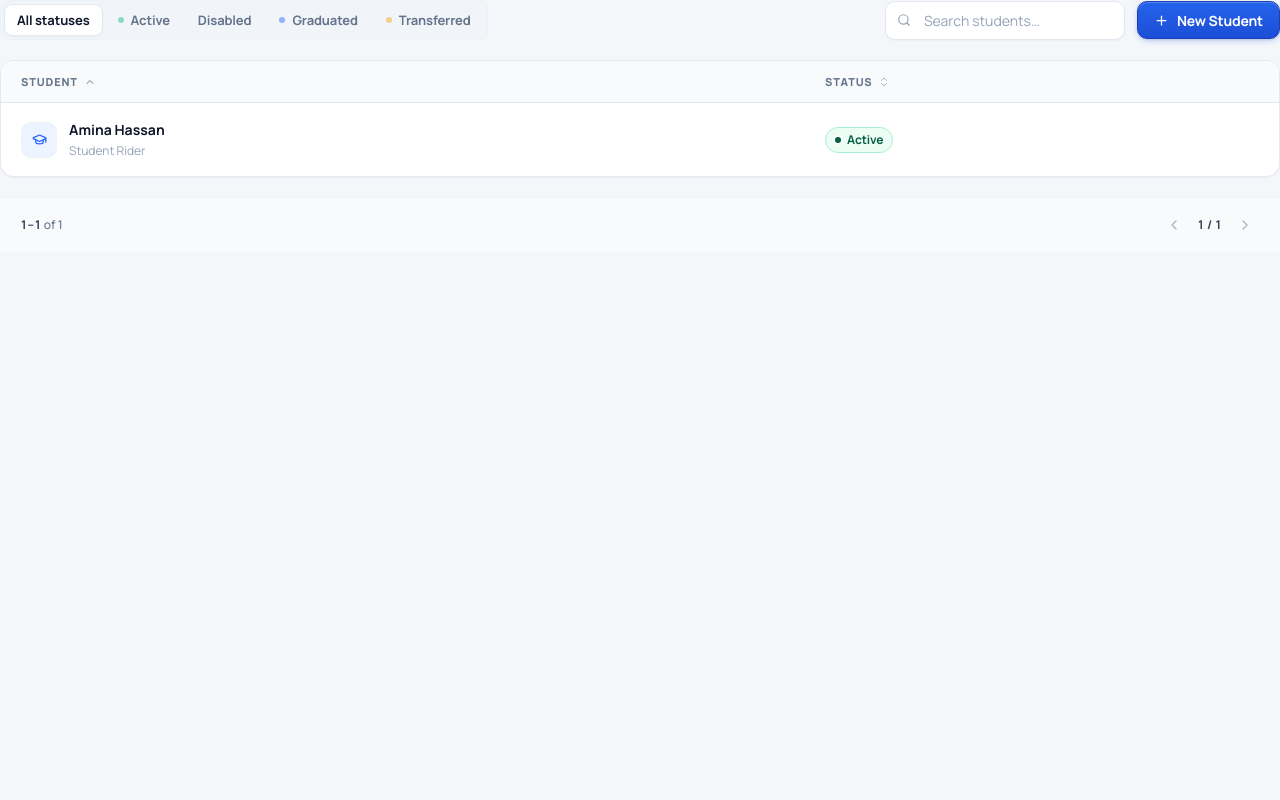
Test: StudentsPage › shows but does not offer to change the fee for a founder
This screenshot has width=1280, height=800.
Click the text "Amina Hassan": (117, 130) x1=69 y1=119 x2=165 y2=141
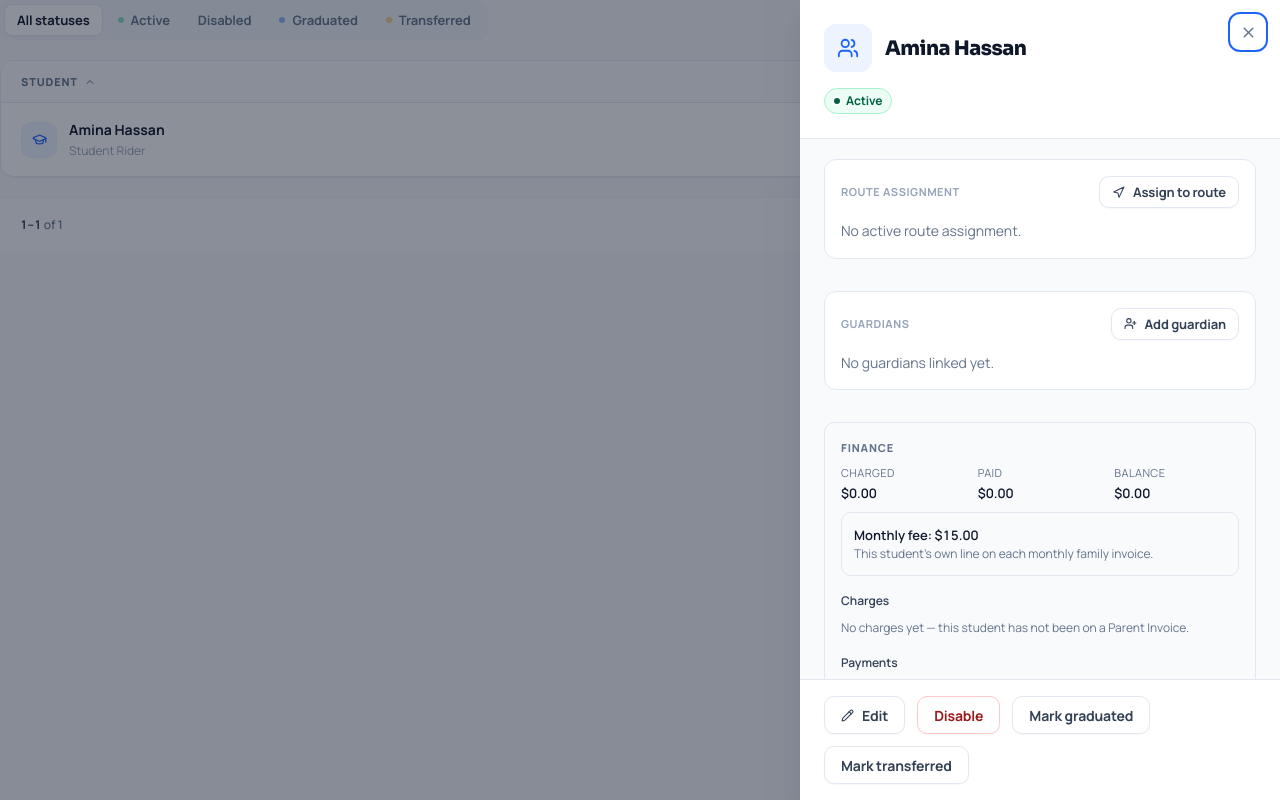
Now the text "Monthly fee: $15.00" is shown, box x1=854 y1=526 x2=978 y2=544
